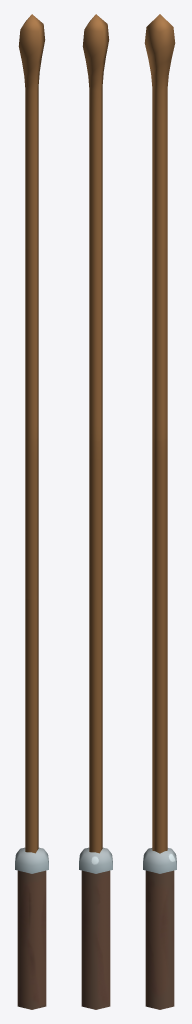
Rendered from Whip.glb.
3 views of the same model, side by side, from view 1: azimuth 30°, elevation 25°; view 2: azimuth 210°, elevation 25°; view 3: azimuth 270°, elevation 25° (orthographic).
Visible parts, largest first — view 1: weapon_all__5__Whip; view 2: weapon_all__5__Whip; view 3: weapon_all__5__Whip.
Boxes of the visible parts, bbox=[...] form: weapon_all__5__Whip: bbox=[15, 14, 48, 1009]; weapon_all__5__Whip: bbox=[79, 14, 112, 1009]; weapon_all__5__Whip: bbox=[143, 14, 176, 1009].
Size of the model in its own units: 0.1052 by 2.93 by 0.0911.
1 material, 1 textured.
